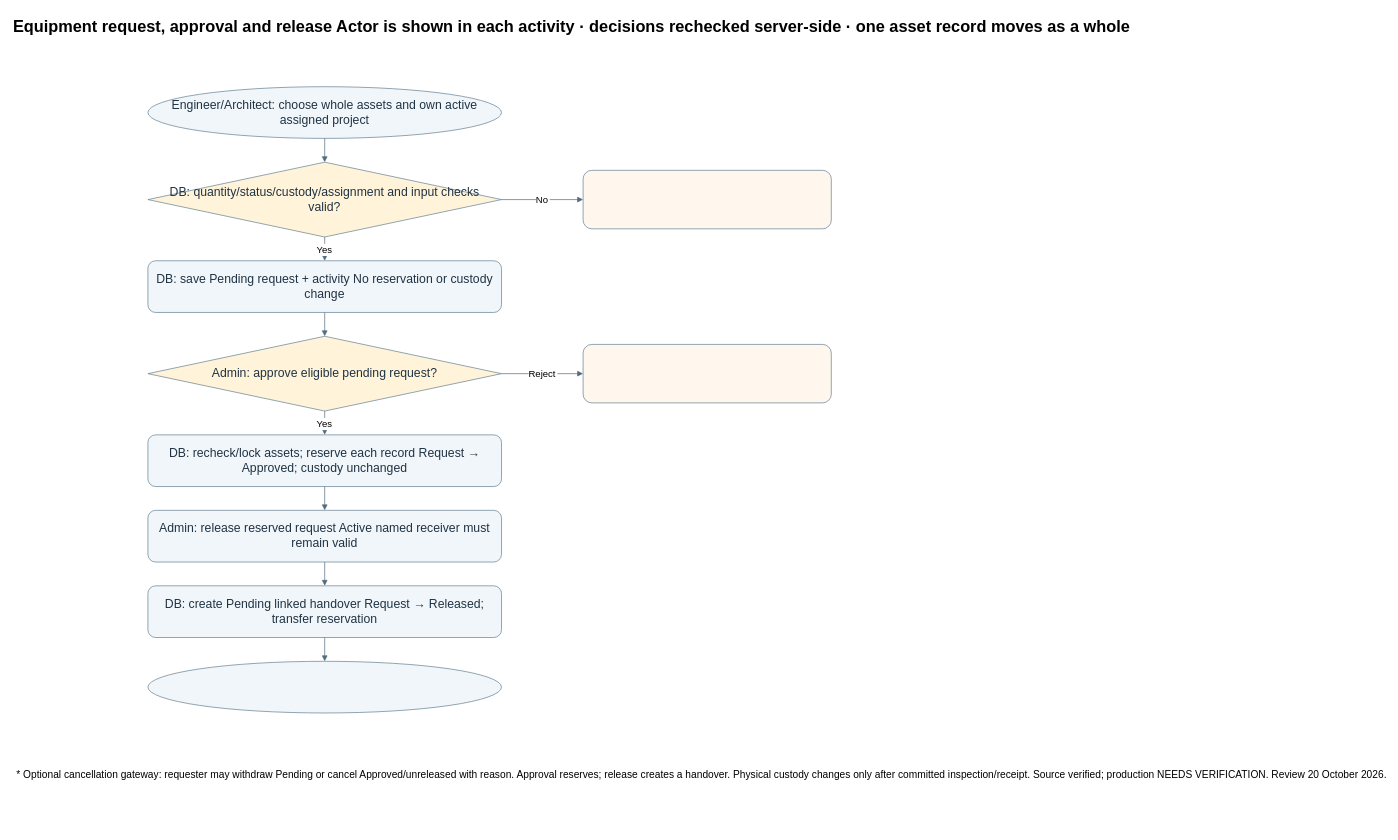
Some shapes in this 1398 by 840 pixel diagram are drawn without their labels. The shapes that lost their labels are listed below. From the top down, each one's centre as x and y in pixels, then its label:
At point 706,199: "Reject operation; refresh / correct input or assignment; no commit".
At point 706,373: "Admin rejects request; save Rejected Original requester may withdraw*".
At point 324,687: "Named receiver: continue inspection See QR Transfer and Receiving diagram".
